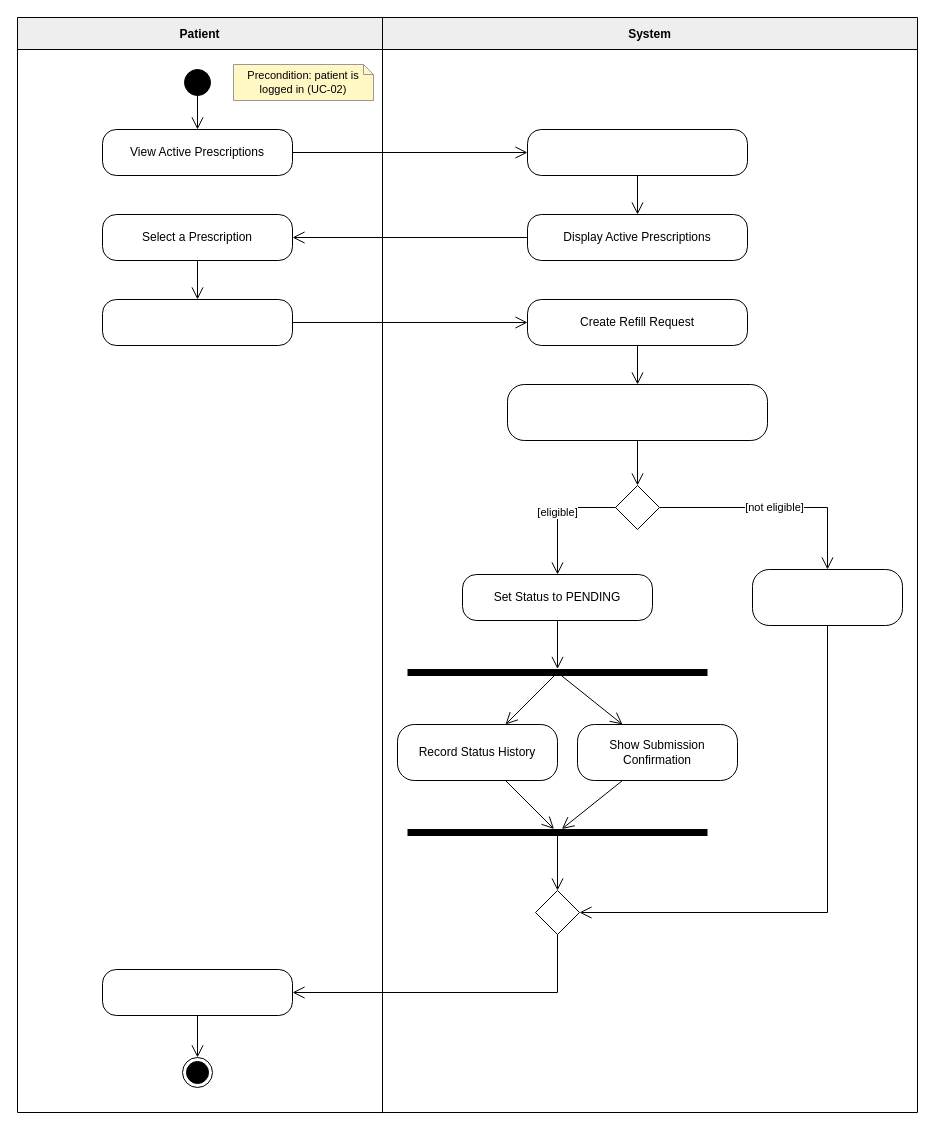
This 935x1130 diagram has some shape labels left out. Each missing label, with the centre of its shape:
"Check Refill Eligibility" belongs at (637,412).
"Retrieve Active Prescriptions" belongs at (637,152).
"Show Ineligibility Reason" belongs at (827,597).
"Submit Refill Request" belongs at (197,322).
"View Result" belongs at (197,992).
